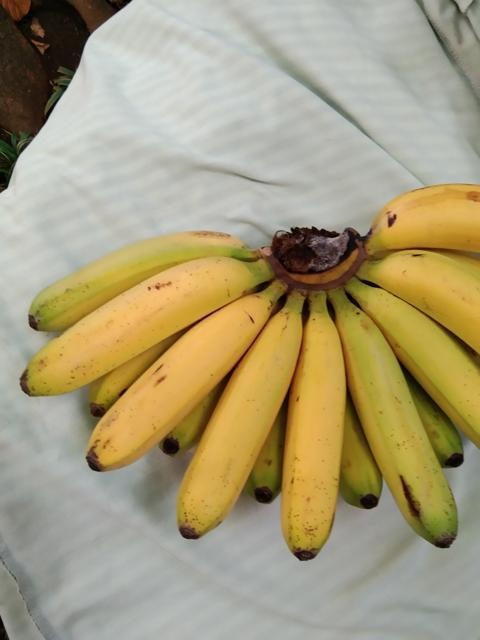freshripe: (6, 254, 245, 403), (174, 307, 302, 539), (280, 312, 349, 564), (368, 291, 479, 427)
ripe: (72, 288, 276, 478), (339, 313, 459, 551), (378, 165, 479, 247)
